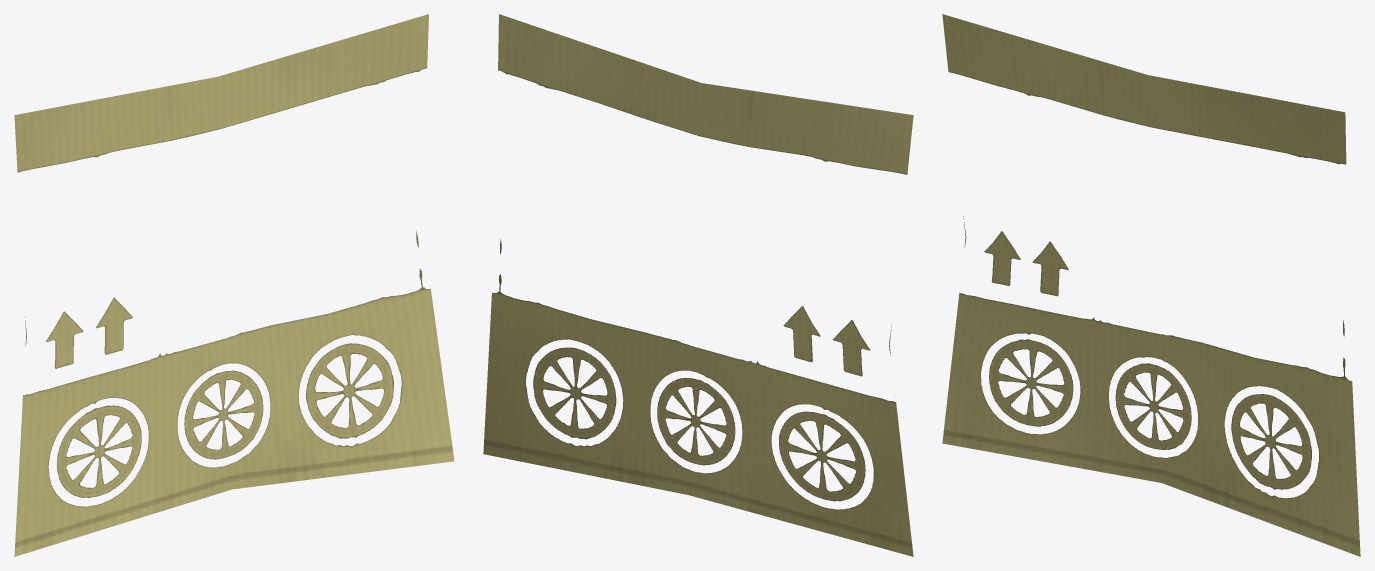
File: p_mesh_orangebox_part03.fbx
The picture shows the model from 3 angles, left to right: view 1: azimuth 30°, elevation 25°; view 2: azimuth 150°, elevation 25°; view 3: azimuth 330°, elevation 25°; orthographic projection. The views are drawn at different scales.
Visible parts, largest first — view 1: p_mesh_containers_vegboxorange_part03; view 2: p_mesh_containers_vegboxorange_part03; view 3: p_mesh_containers_vegboxorange_part03.
Boxes of the visible parts, x1,y1,x2,y2 form: p_mesh_containers_vegboxorange_part03: [14, 14, 454, 556]; p_mesh_containers_vegboxorange_part03: [483, 14, 913, 556]; p_mesh_containers_vegboxorange_part03: [942, 14, 1360, 556].
Bounding box in the file's own units: 6.18 × 6.09 × 0.2713.
